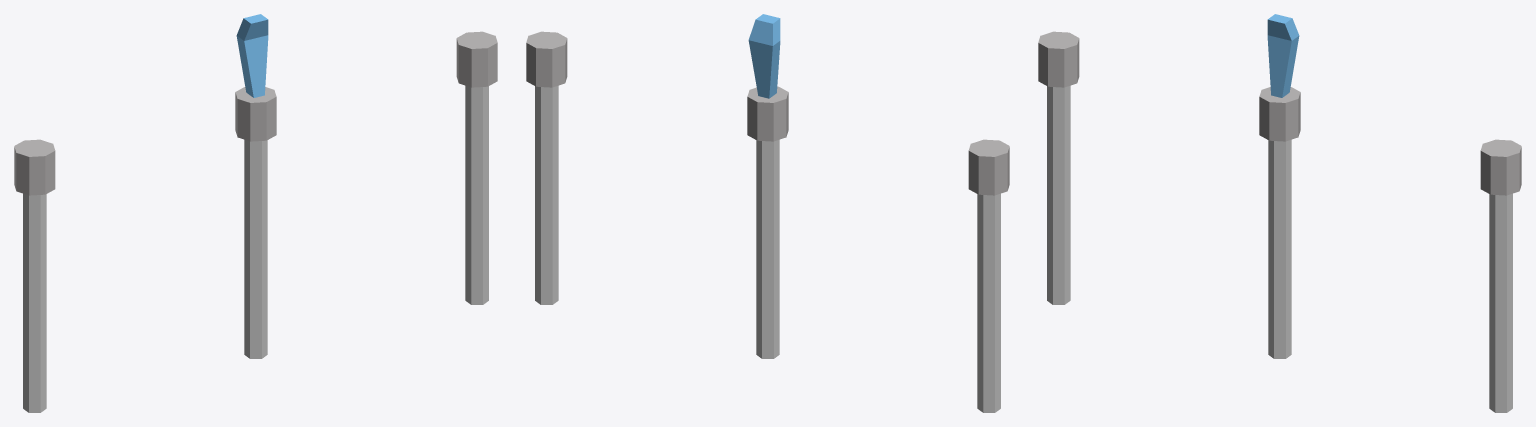
Rendered from Tap.fbx.
The picture shows the model from 3 angles, left to right: view 1: azimuth 30°, elevation 25°; view 2: azimuth 150°, elevation 25°; view 3: azimuth 330°, elevation 25°; orthographic projection.
Parts seen in each view (by area): view 1: Cylinder.001, Cube.001; view 2: Cylinder.001, Cube.001; view 3: Cylinder.001, Cube.001.
Part boxes in pixels (<box>): Cylinder.001: <box>14,31,497,412</box>; Cube.001: <box>236,14,268,97</box>; Cylinder.001: <box>526,31,1009,412</box>; Cube.001: <box>748,14,780,98</box>; Cylinder.001: <box>1038,31,1521,412</box>; Cube.001: <box>1267,14,1299,97</box>.
Size of the model in its own units: 122 by 81.35 by 9.35.
